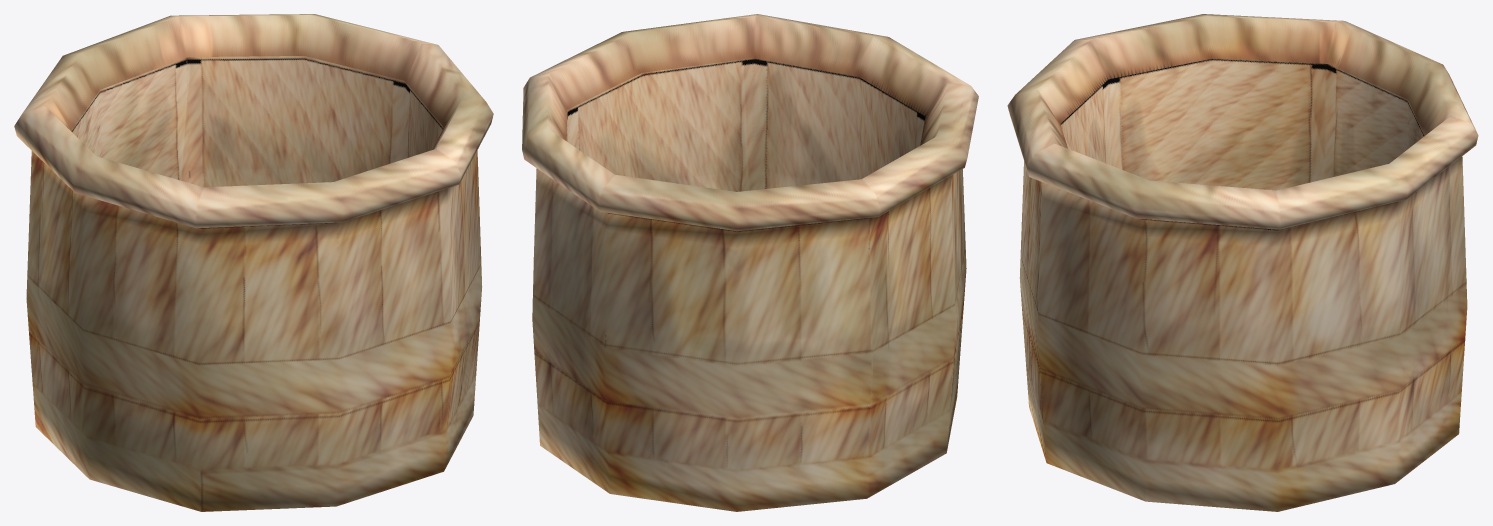
The model's file is basket.fbx.
The picture shows the model from 3 angles, left to right: view 1: azimuth 30°, elevation 25°; view 2: azimuth 150°, elevation 25°; view 3: azimuth 270°, elevation 25°; orthographic projection.
Parts seen in each view (by area): view 1: sos_game_play_models:wooden_basket_; view 2: sos_game_play_models:wooden_basket_; view 3: sos_game_play_models:wooden_basket_.
Part boxes in pixels (<box>): sos_game_play_models:wooden_basket_: <box>14,14,493,511</box>; sos_game_play_models:wooden_basket_: <box>522,14,978,511</box>; sos_game_play_models:wooden_basket_: <box>1007,14,1478,511</box>.
Bounding box in the file's own units: 38.9 × 30.05 × 39.
Materials: 1 (1 with a texture image).
